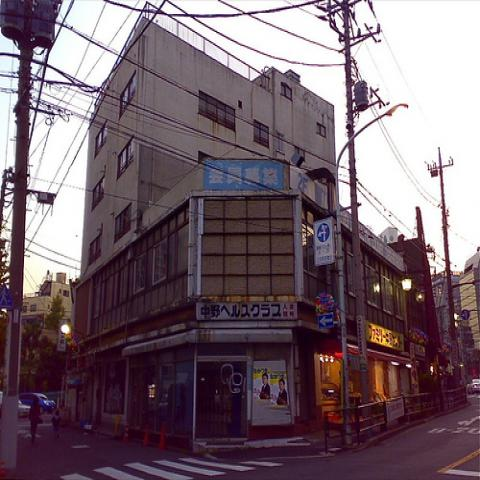car: (19, 392, 56, 410), (18, 400, 30, 418), (467, 378, 479, 396)
